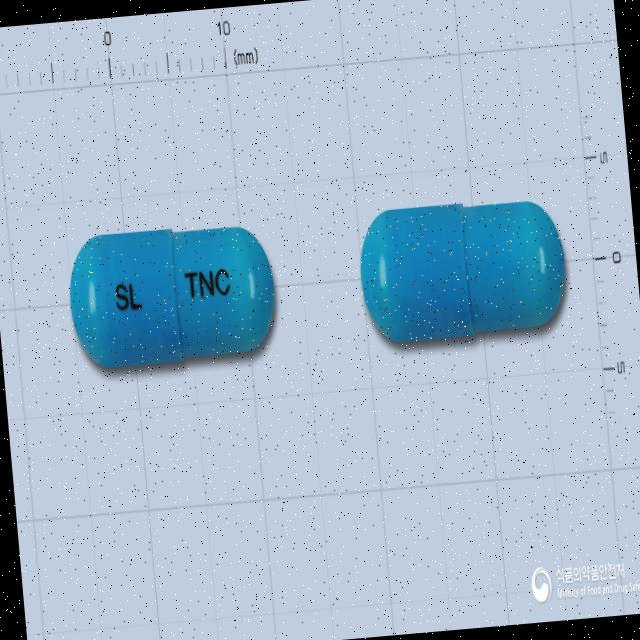Tricyline-N Cap: (64, 216, 280, 373), (355, 192, 571, 344)
